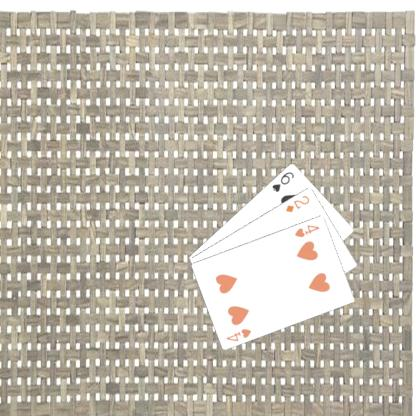2D: (283, 192, 311, 214)
4H: (292, 222, 321, 238), (224, 326, 253, 342)
6S: (270, 168, 296, 194)
